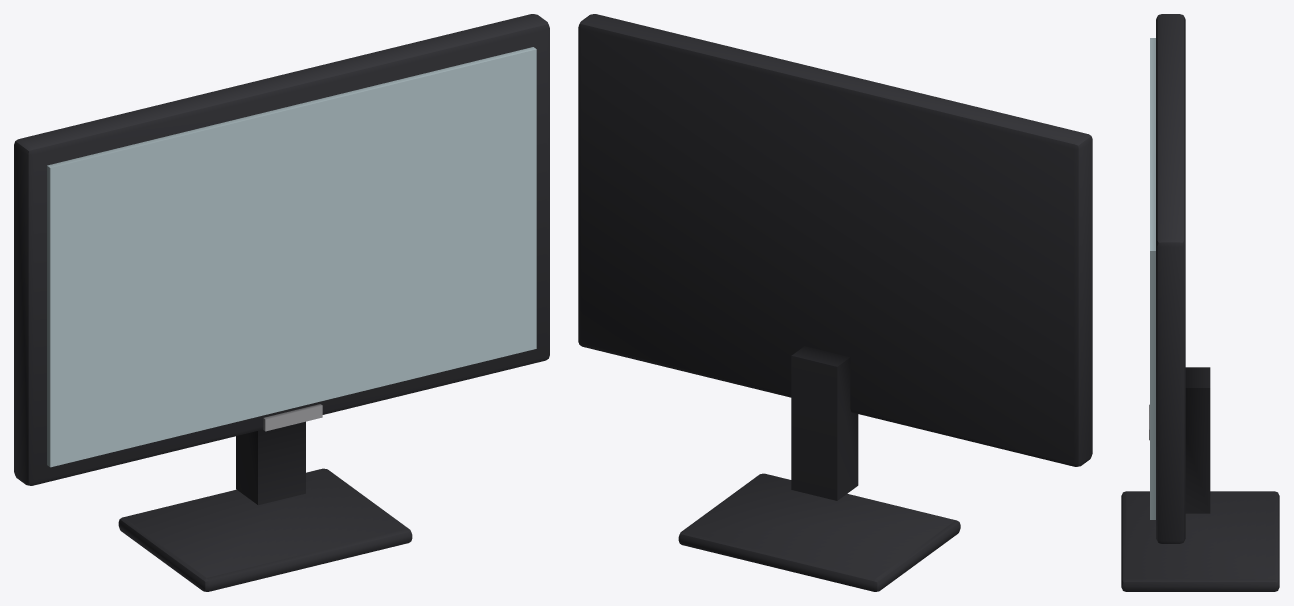
Rendered from monitor.glb.
3 views of the same model, side by side, from view 1: azimuth 30°, elevation 25°; view 2: azimuth 150°, elevation 25°; view 3: azimuth 270°, elevation 25° (orthographic). The views are drawn at different scales.
Parts seen in each view (by area): view 1: monitor; view 2: monitor; view 3: monitor.
Boxes of the visible parts, x1,y1,x2,y2 form: monitor: [14, 14, 549, 591]; monitor: [578, 14, 1092, 591]; monitor: [1121, 14, 1279, 591].
Bounding box in the file's own units: 0.55 × 0.47 × 0.16.
